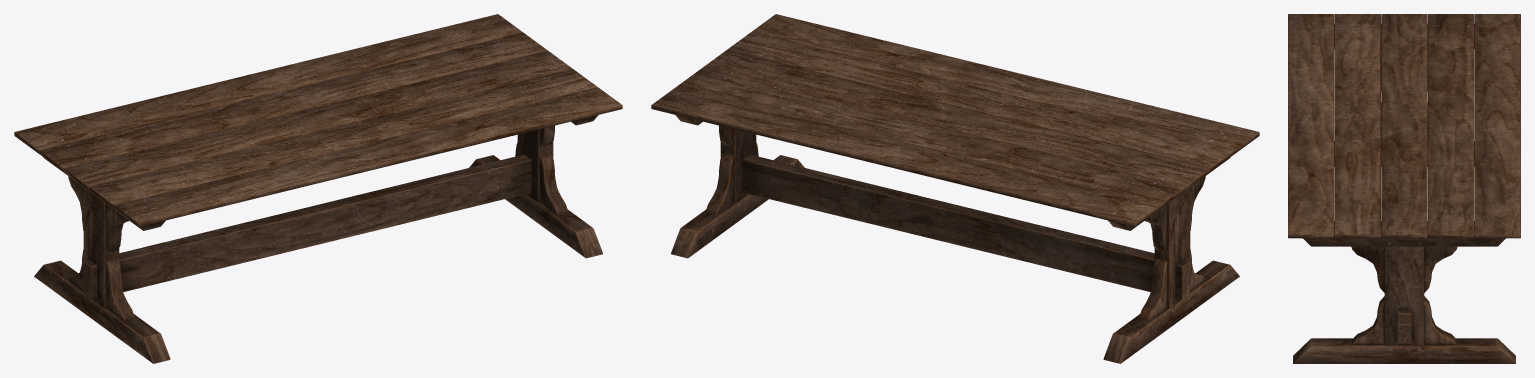
File: medieval_table.glb
3 views of the same model, side by side, from view 1: azimuth 30°, elevation 25°; view 2: azimuth 150°, elevation 25°; view 3: azimuth 270°, elevation 25° (orthographic). The views are drawn at different scales.
Parts seen in each view (by area): view 1: Table; view 2: Table; view 3: Table.
Boxes of the visible parts, x1,y1,x2,y2 form: Table: (14, 14, 622, 363); Table: (651, 14, 1259, 363); Table: (1288, 14, 1520, 363).
Bounding box in the file's own units: 3.01 × 0.8744 × 1.34.
Materials: 1 (1 with a texture image).
